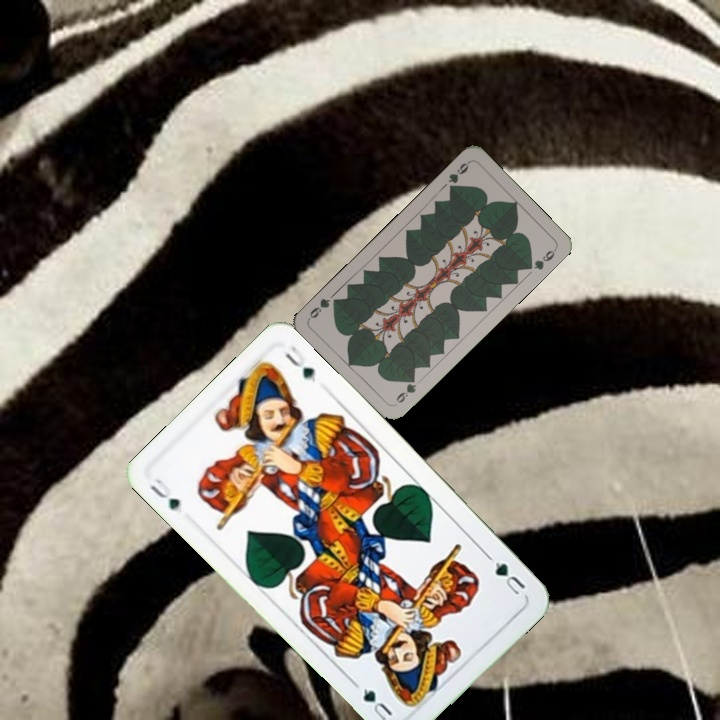G9: (444, 157, 473, 194), (391, 373, 419, 408)
GU: (483, 551, 528, 598), (145, 474, 183, 514)
